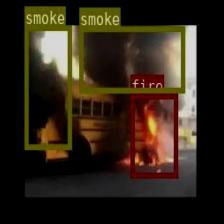fire: (130, 92, 176, 177)
smoke: (78, 26, 184, 92), (24, 24, 70, 148)
